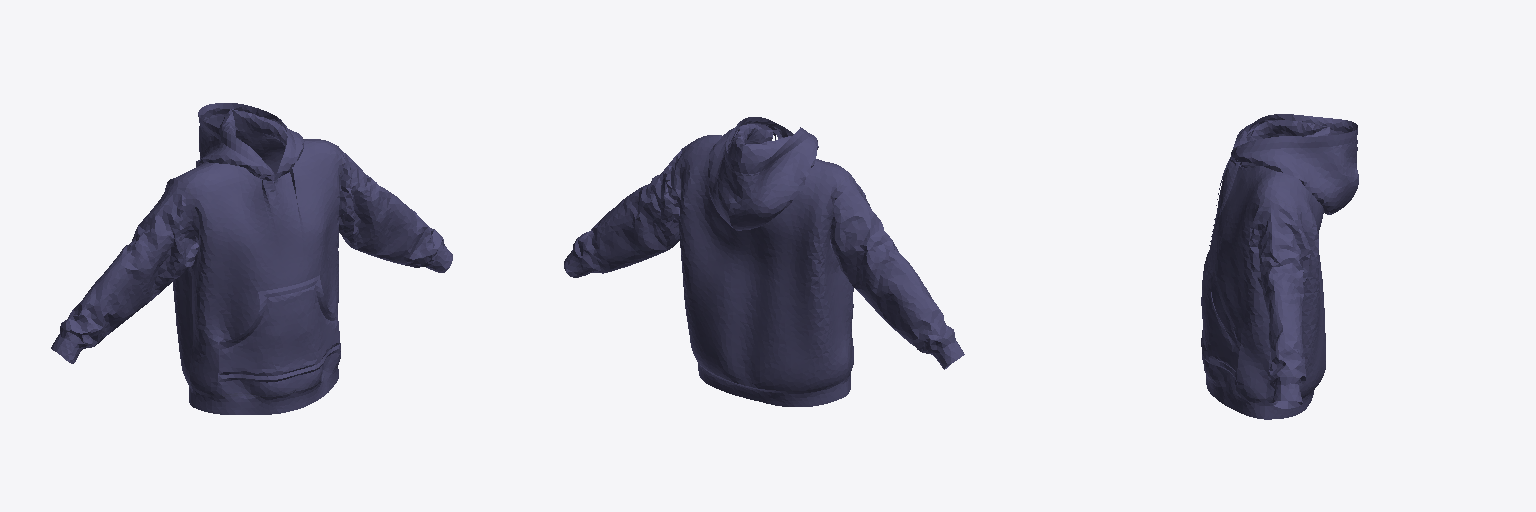
3 views of the same model, side by side, from view 1: azimuth 30°, elevation 25°; view 2: azimuth 150°, elevation 25°; view 3: azimuth 270°, elevation 25° (orthographic).
Parts seen in each view (by area): view 1: Root_ClothPiece_Fabric_0_ClothPiece_0, Root_ClothPiece_Fabric_0_ClothPiece_8, Root_ClothPiece_Fabric_0_ClothPiece_3, Root_ClothPiece_Fabric_0_ClothPiece_4, Root_ClothPiece_Fabric_0_ClothPiece_1, Root_ClothPiece_Fabric_0_ClothPiece_2, Root_ClothPiece_Fabric_0_ClothPiece_14, Root_ClothPiece_Fabric_0_ClothPiece_5; view 2: Root_ClothPiece_Fabric_0_ClothPiece_2, Root_ClothPiece_Fabric_0_ClothPiece_5, Root_ClothPiece_Fabric_0_ClothPiece_1, Root_ClothPiece_Fabric_0_ClothPiece_10, Root_ClothPiece_Fabric_0_ClothPiece_13, Root_ClothPiece_Fabric_0_ClothPiece_0, Root_ClothPiece_Fabric_0_ClothPiece_15; view 3: Root_ClothPiece_Fabric_0_ClothPiece_0, Root_ClothPiece_Fabric_0_ClothPiece_1, Root_ClothPiece_Fabric_0_ClothPiece_10, Root_ClothPiece_Fabric_0_ClothPiece_2, Root_ClothPiece_Fabric_0_ClothPiece_4, Root_ClothPiece_Fabric_0_ClothPiece_8, Root_ClothPiece_Fabric_0_ClothPiece_14, Root_ClothPiece_Fabric_0_ClothPiece_12, Root_ClothPiece_Fabric_0_ClothPiece_13.
Boxes of the visible parts, <box> form: Root_ClothPiece_Fabric_0_ClothPiece_0: <box>183,141,341,396</box>; Root_ClothPiece_Fabric_0_ClothPiece_8: <box>218,275,340,382</box>; Root_ClothPiece_Fabric_0_ClothPiece_3: <box>67,183,199,347</box>; Root_ClothPiece_Fabric_0_ClothPiece_4: <box>338,148,443,267</box>; Root_ClothPiece_Fabric_0_ClothPiece_1: <box>196,103,303,180</box>; Root_ClothPiece_Fabric_0_ClothPiece_2: <box>173,130,335,386</box>; Root_ClothPiece_Fabric_0_ClothPiece_14: <box>192,364,338,414</box>; Root_ClothPiece_Fabric_0_ClothPiece_5: <box>60,179,181,330</box>; Root_ClothPiece_Fabric_0_ClothPiece_2: <box>679,136,848,390</box>; Root_ClothPiece_Fabric_0_ClothPiece_5: <box>830,178,953,353</box>; Root_ClothPiece_Fabric_0_ClothPiece_1: <box>708,117,818,230</box>; Root_ClothPiece_Fabric_0_ClothPiece_10: <box>573,143,690,273</box>; Root_ClothPiece_Fabric_0_ClothPiece_13: <box>698,363,846,406</box>; Root_ClothPiece_Fabric_0_ClothPiece_0: <box>707,135,853,375</box>; Root_ClothPiece_Fabric_0_ClothPiece_15: <box>929,333,964,369</box>; Root_ClothPiece_Fabric_0_ClothPiece_0: <box>1202,158,1276,398</box>; Root_ClothPiece_Fabric_0_ClothPiece_1: <box>1231,114,1358,214</box>; Root_ClothPiece_Fabric_0_ClothPiece_10: <box>1270,200,1310,383</box>; Root_ClothPiece_Fabric_0_ClothPiece_2: <box>1266,172,1325,399</box>; Root_ClothPiece_Fabric_0_ClothPiece_4: <box>1249,200,1282,385</box>; Root_ClothPiece_Fabric_0_ClothPiece_8: <box>1201,252,1240,380</box>; Root_ClothPiece_Fabric_0_ClothPiece_14: <box>1206,375,1265,418</box>; Root_ClothPiece_Fabric_0_ClothPiece_12: <box>1280,377,1302,408</box>; Root_ClothPiece_Fabric_0_ClothPiece_13: <box>1264,389,1314,419</box>.
Bounding box in the file's own units: 1.19 × 0.7541 × 0.4127.
Materials: 16 (1 with a texture image).